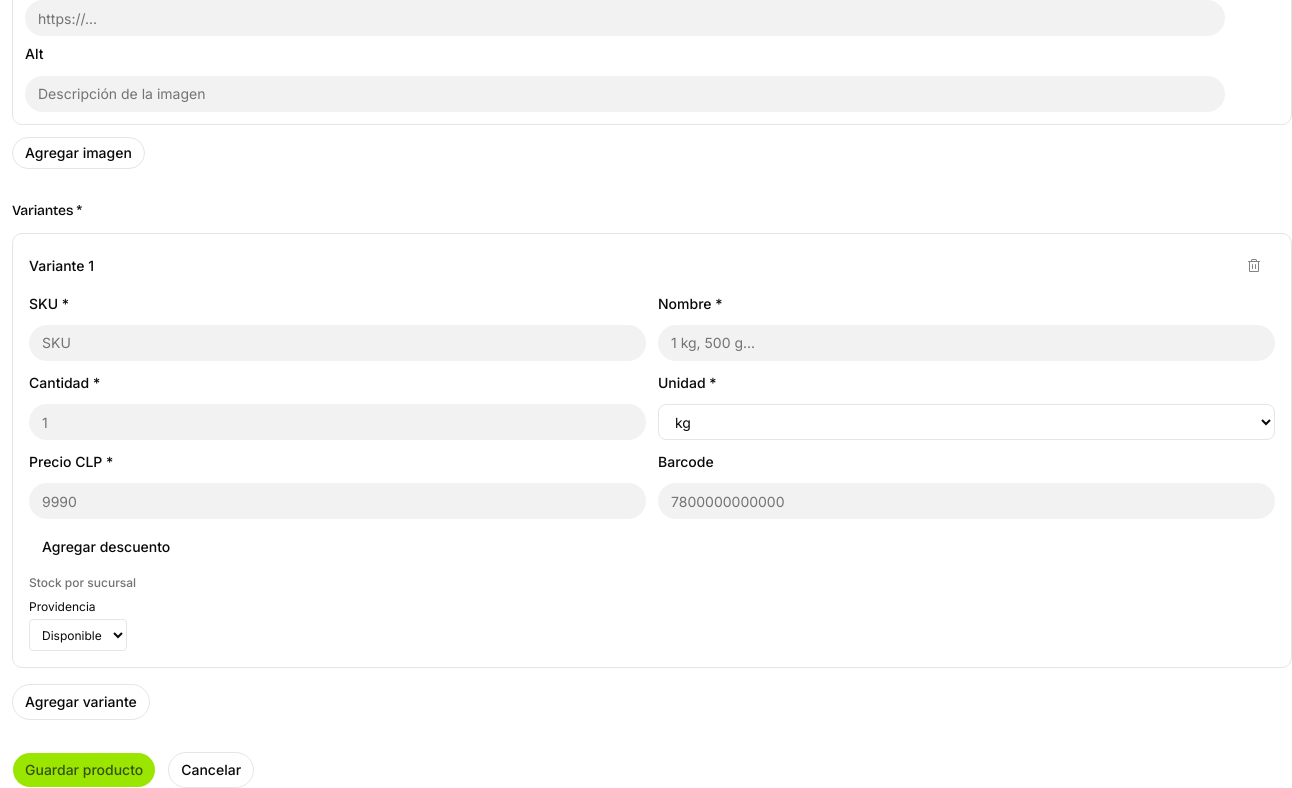
ProductForm — variant array (Phase 9.1) › clicking 'Agregar variante' adds a second row
This screenshot has width=1292, height=788.
(page scrolled)
Click the button "Agregar variante": (81, 702) x1=12 y1=684 x2=150 y2=720
(page scrolled)
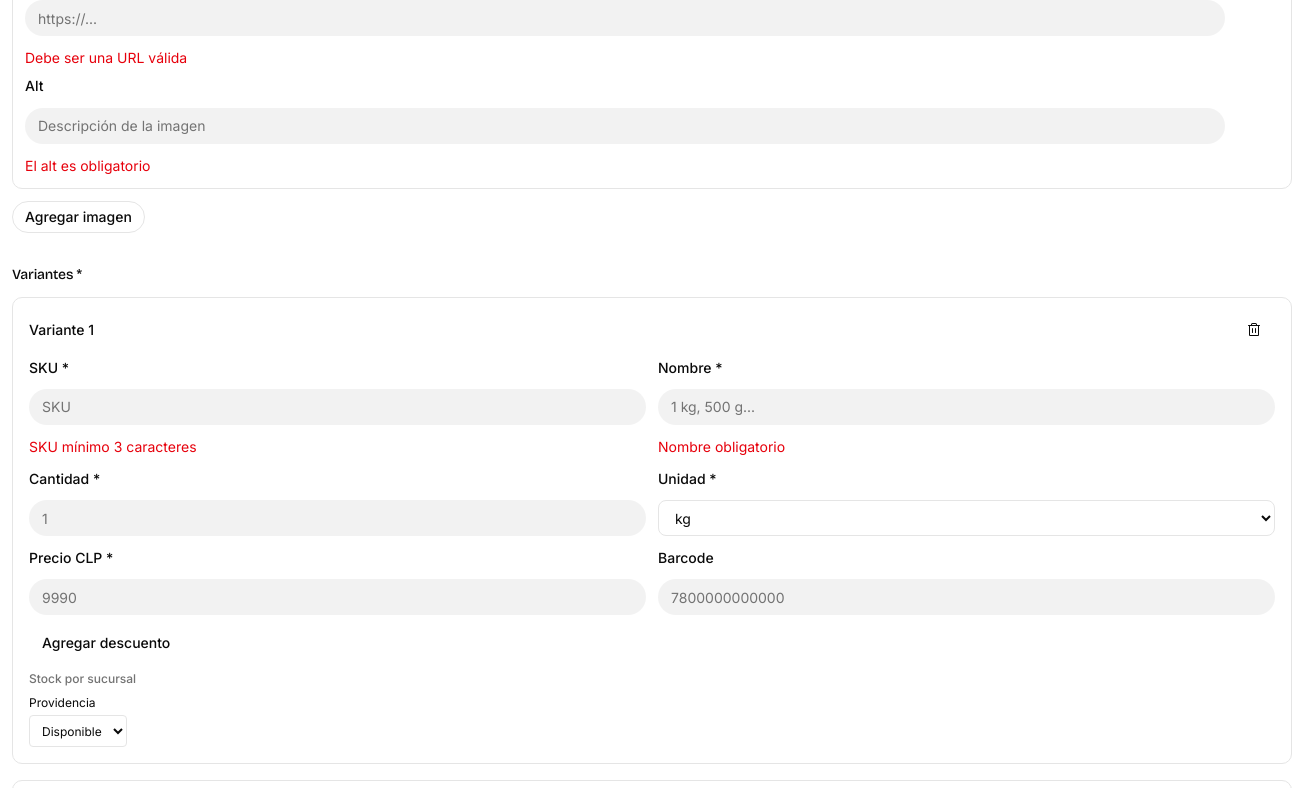
Check: the number of fields with placeholder "SKU" is 2
